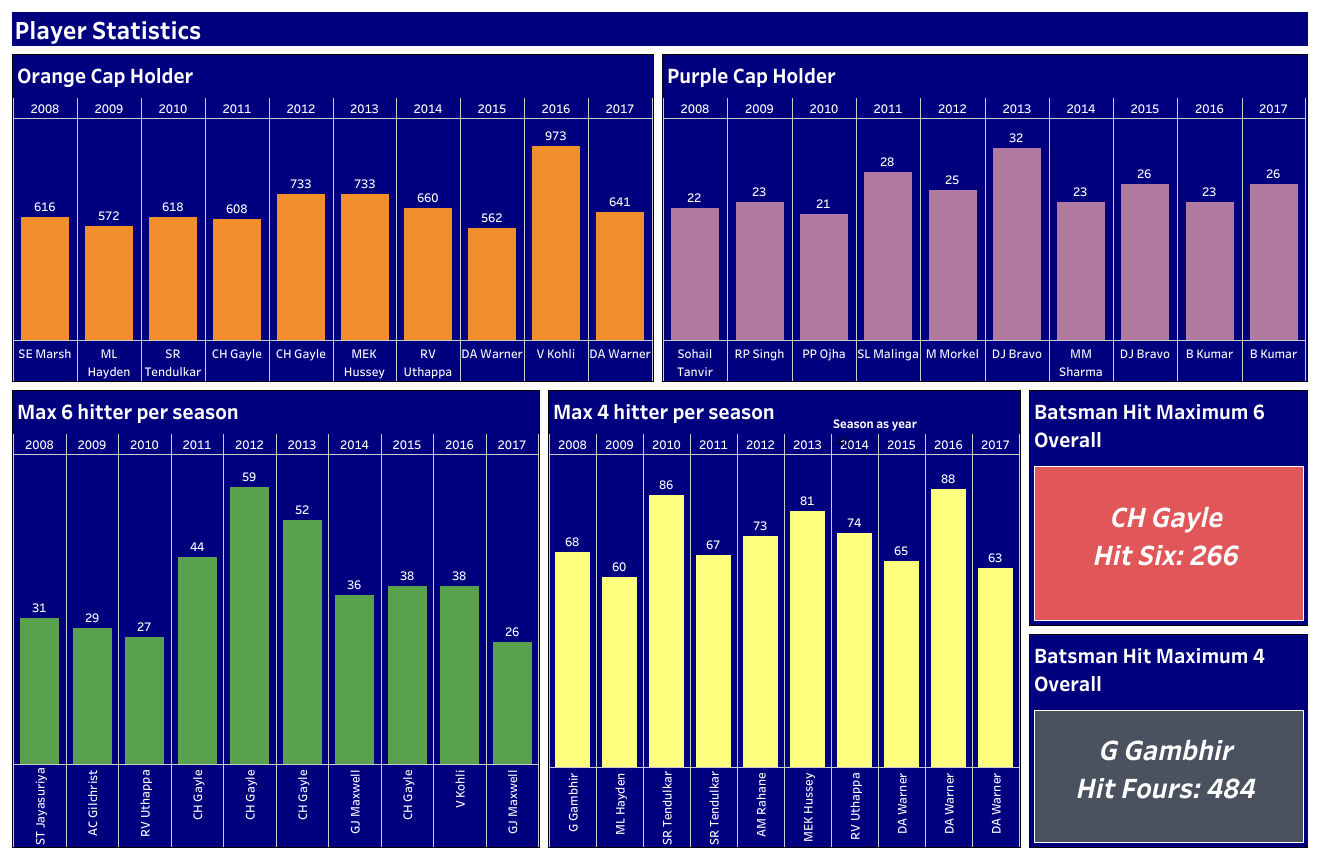

What the dashboard file says about the page in this screenshot:
{"tool":"tableau","page":{"name":"Player Statistics","canvas":[1320,860],"ordinal":1},"visuals":[{"type":"title","box":[8,8,1304,41]},{"type":"worksheet","title":"Orange Cap","mark":"Automatic","rows":["batsman_runs"],"cols":["Calculation_731834989258354689","batsman"],"box":[8,49,650.4,336]},{"type":"worksheet","title":"Purple Cap Holder","mark":"Bar","rows":["Calculation_996139990262054914"],"cols":["Calculation_731834989258354689","bowler"],"box":[658.4,49,653.6,336]},{"type":"worksheet","title":"Max 6 hitter per season","mark":"Automatic","rows":["batsman_runs"],"cols":["Calculation_731834989258354689","batsman"],"box":[8,385,536.2,467]},{"type":"worksheet","title":"Max 4 hitter per season","mark":"Automatic","rows":["batsman_runs"],"cols":["Calculation_731834989258354689","batsman"],"box":[544.2,385,480.7,467]},{"type":"worksheet","title":"Batsman Hit Maximum 6 Overall","mark":"Square","box":[1025,385,287,245]},{"type":"filter","title":"Max 4 hitter per season","param":"[federated.0xpvl9k142aeco1g1o5wq037uevb].[none:Calculation_731834989258354689:nk","box":[833.2,412.8,198,61.7]},{"type":"worksheet","title":"Batsman Hit Maximum 4 Overall","mark":"Automatic","box":[1025,630,287,222]}]}

Visuals, with their boxes in screenshot pixels (x1, y1, x2, y2), scaled from the page's 1320x860 canvas onto the 1319x859 screenshot:
title: bbox=(8, 8, 1311, 49)
"Orange Cap" worksheet: bbox=(8, 49, 658, 385)
"Purple Cap Holder" worksheet (Bar marks): bbox=(658, 49, 1311, 385)
"Max 6 hitter per season" worksheet: bbox=(8, 385, 544, 851)
"Max 4 hitter per season" worksheet: bbox=(544, 385, 1024, 851)
"Batsman Hit Maximum 6 Overall" worksheet (Square marks): bbox=(1024, 385, 1311, 629)
"Max 4 hitter per season" filter: bbox=(833, 412, 1030, 474)
"Batsman Hit Maximum 4 Overall" worksheet: bbox=(1024, 629, 1311, 851)
